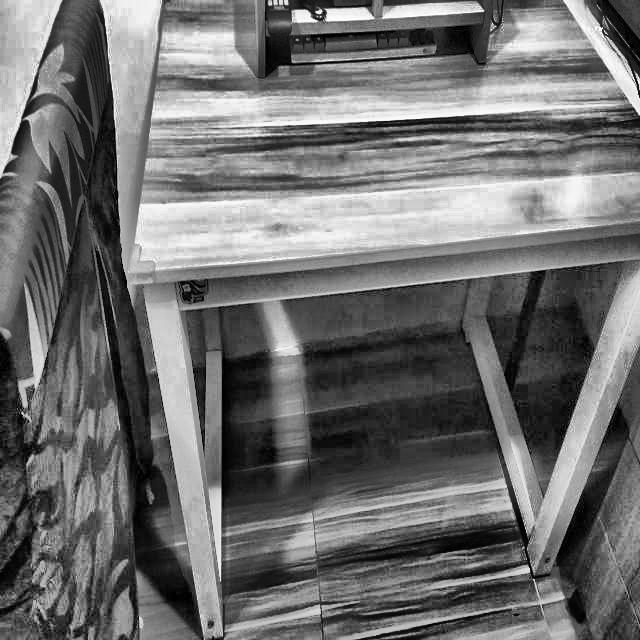mesa: (125, 0, 640, 630)
